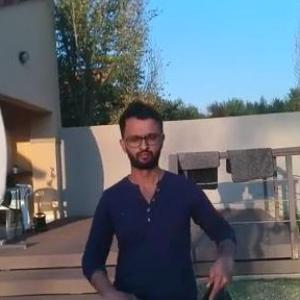follow: (78, 95, 250, 299)
